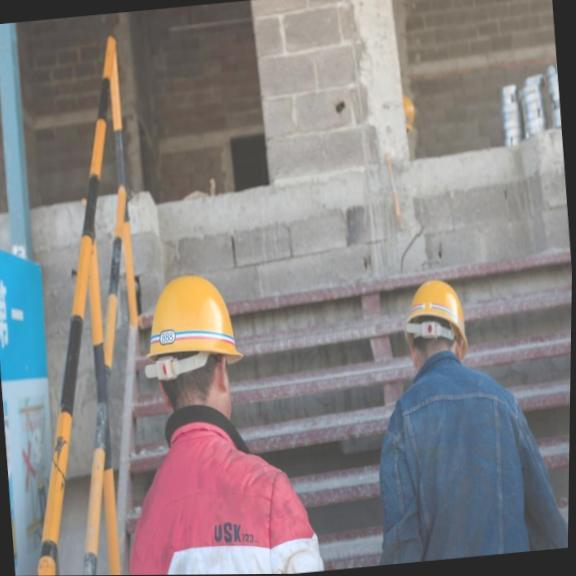no_safety_vest: (361, 350, 555, 566), (105, 400, 332, 575)
